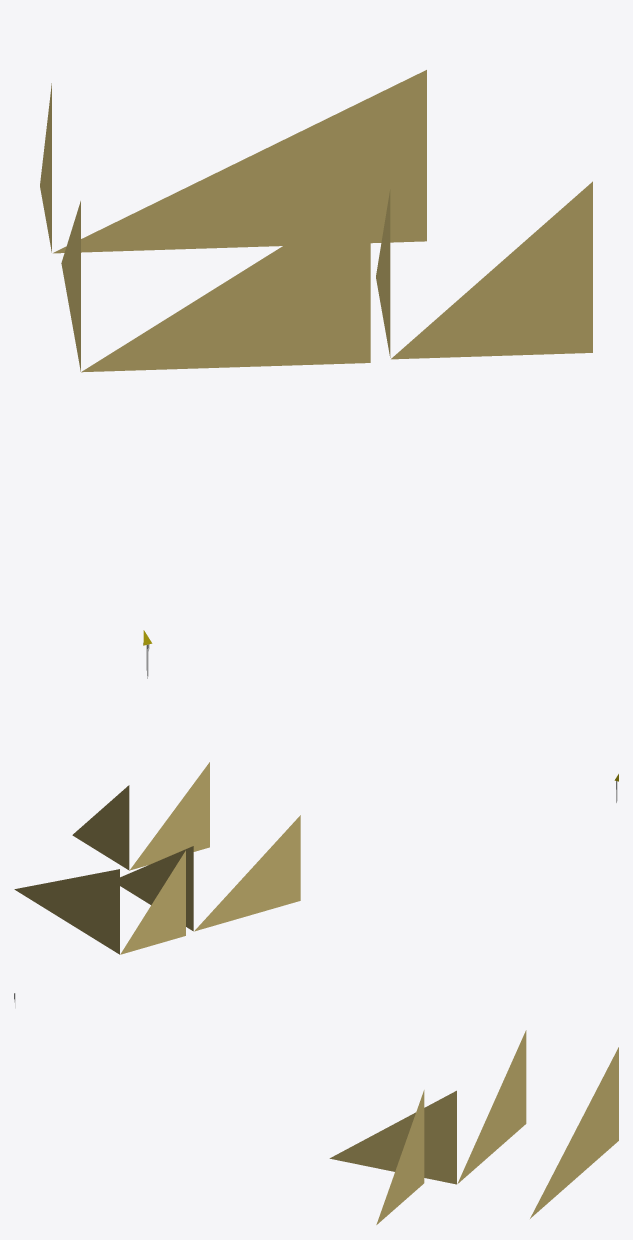
3 views of the same model, one above another, from view 1: azimuth 30°, elevation 25°; view 2: azimuth 150°, elevation 25°; view 3: azimuth 270°, elevation 25° (orthographic). The views are drawn at different scales.
Size of the model in its own units: 34.93 by 7.5 by 43.65.
